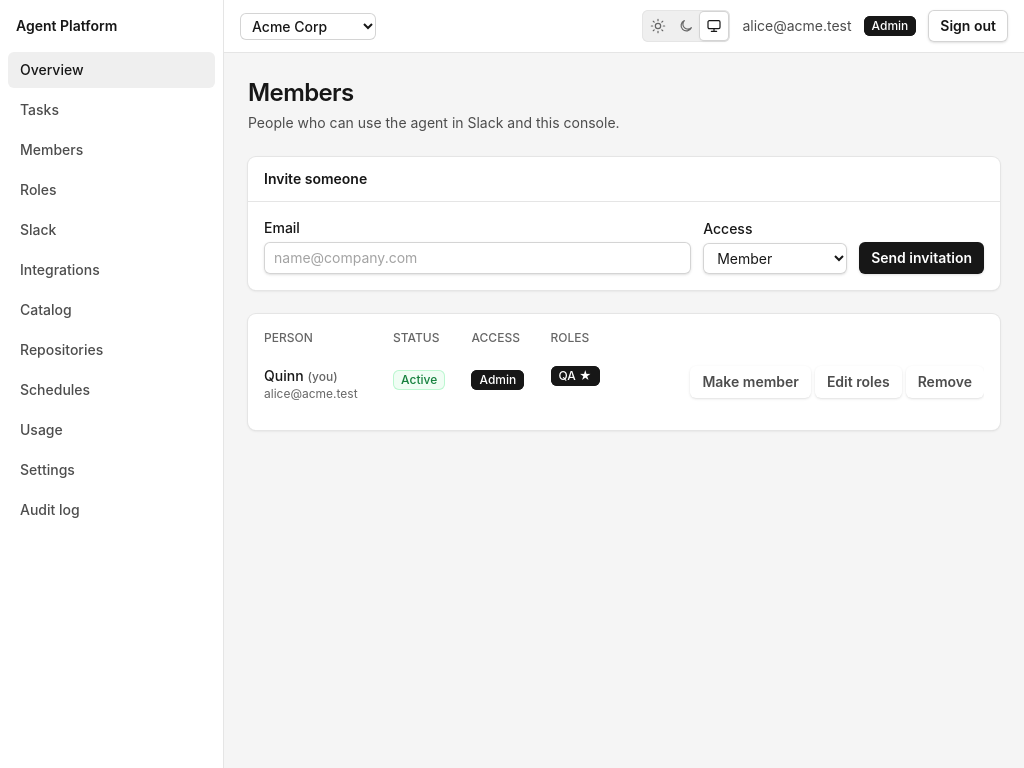
Members page › shows API errors next to the member with the request id
This screenshot has width=1024, height=768.
Expected: the text "(you)" is shown, left=308, top=369, right=338, bottom=384
Click the button "Make member": point(751, 382) left=690, top=366, right=811, bottom=398
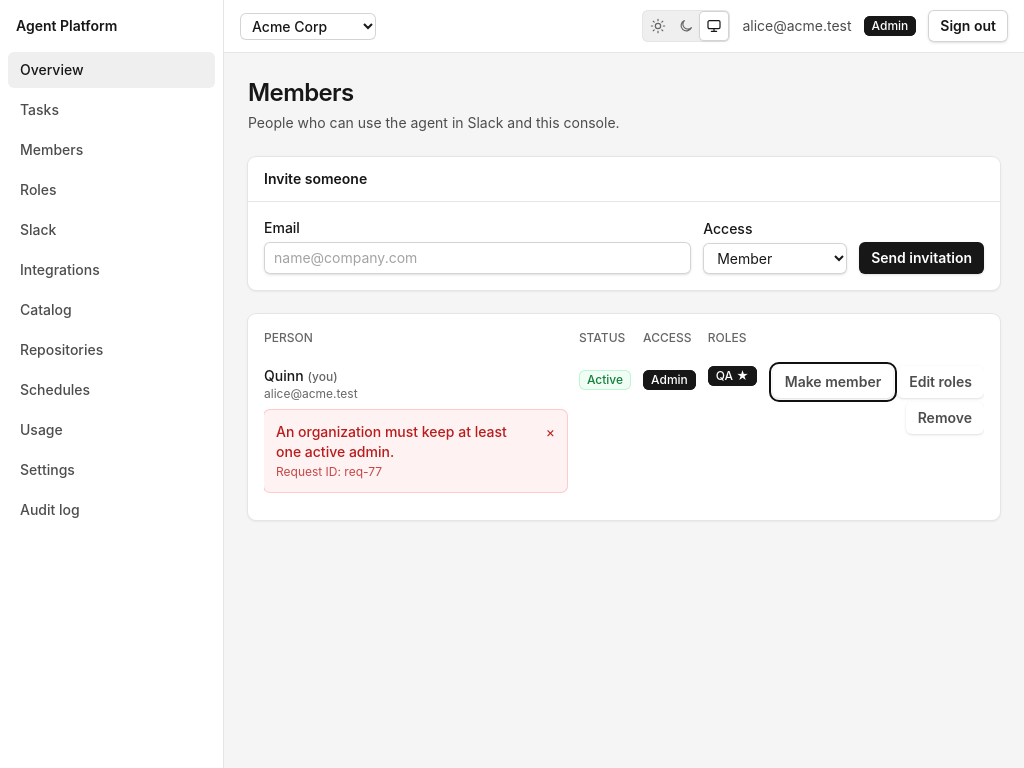
Expected: the text "An organization must keep at least one active admin." is shown, left=276, top=422, right=530, bottom=462
Expected: the text "Request ID: req-77" is shown, left=276, top=464, right=382, bottom=479
